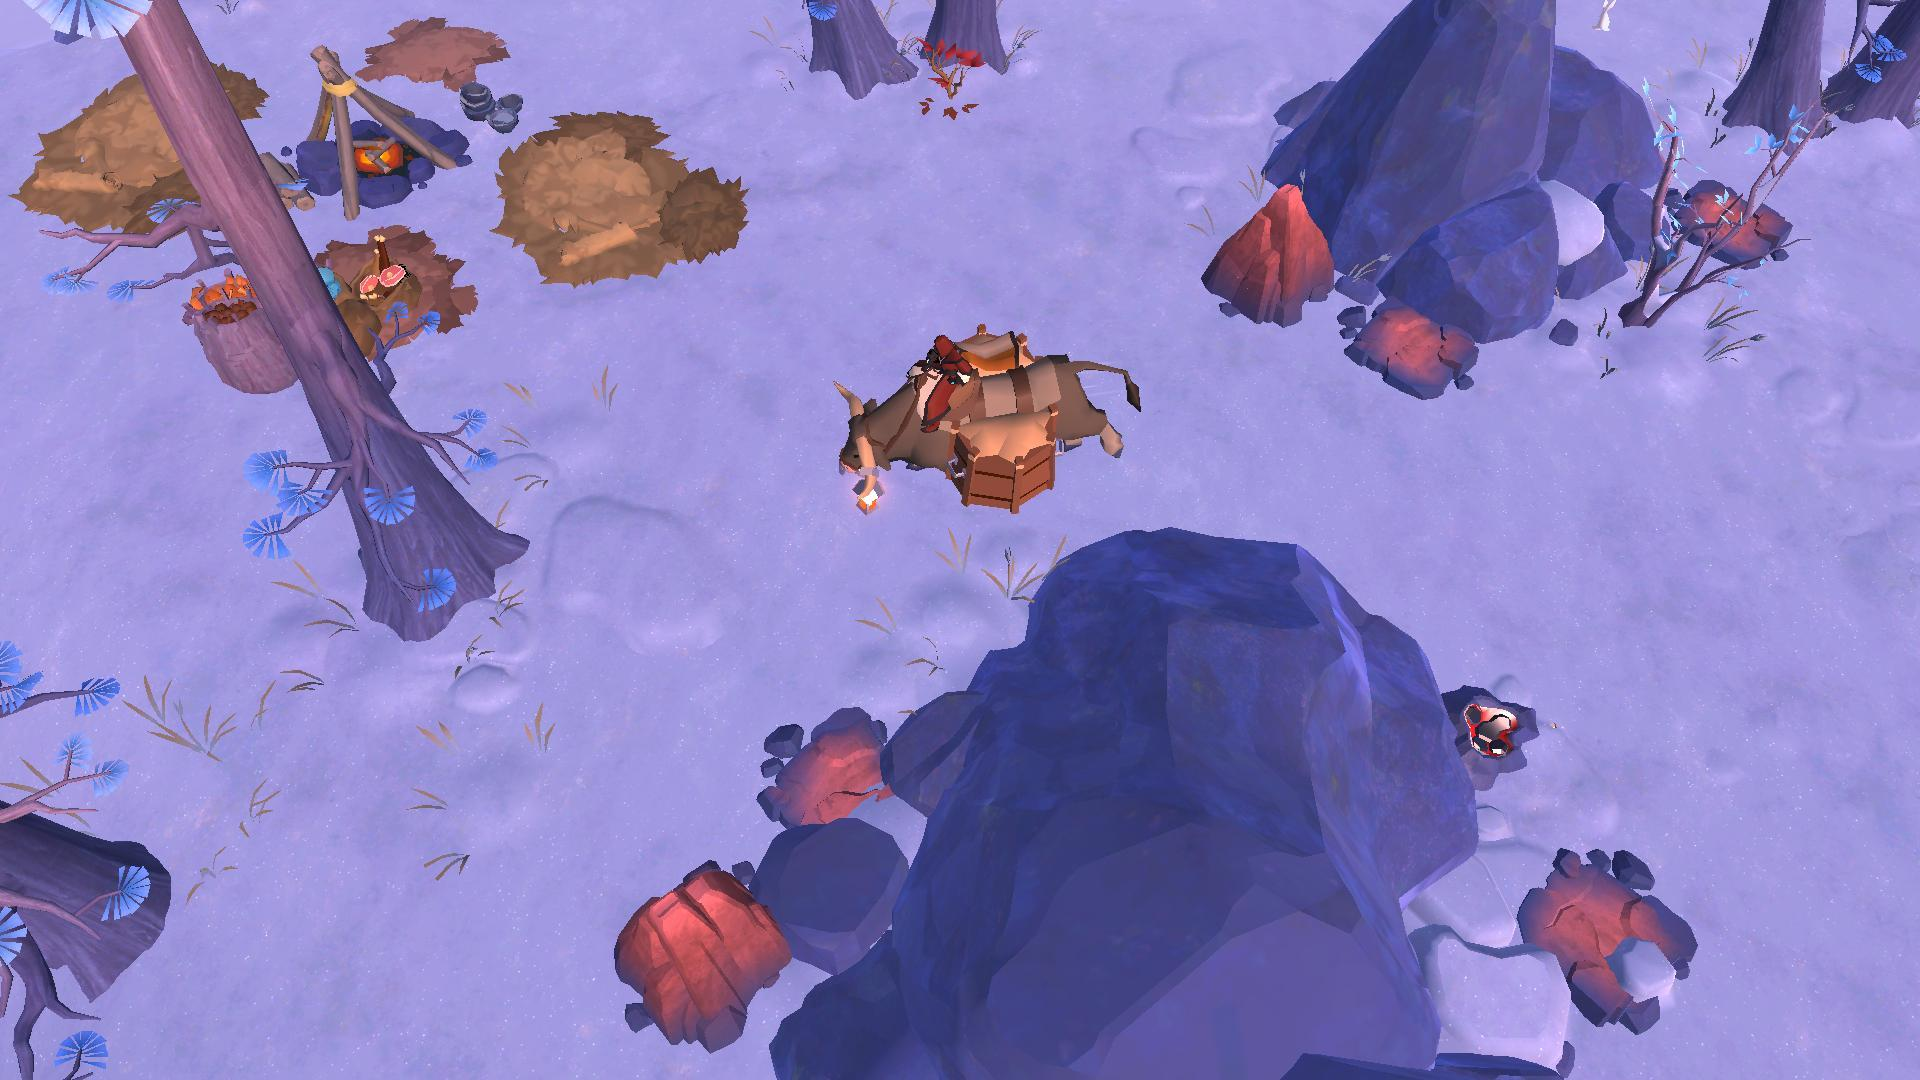rock_t5: (601, 865, 786, 1054), (1201, 182, 1337, 336)
